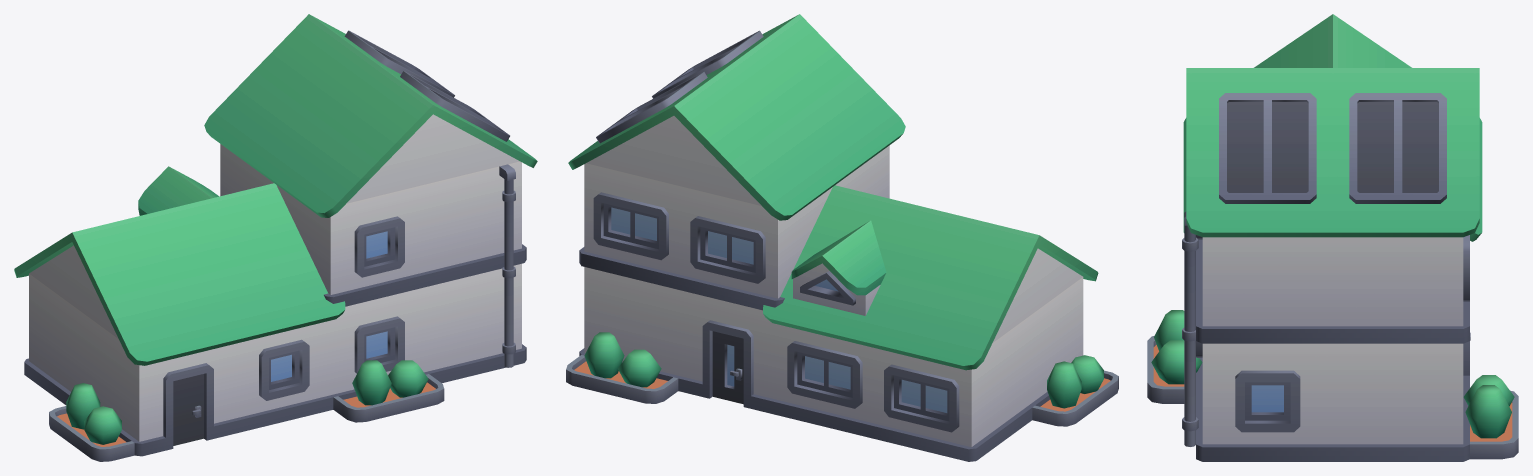
File: building-type-b.glb
The picture shows the model from 3 angles, left to right: view 1: azimuth 30°, elevation 25°; view 2: azimuth 150°, elevation 25°; view 3: azimuth 270°, elevation 25°; orthographic projection. The views are drawn at different scales.
Visible parts, largest first — view 1: building-type-b; view 2: building-type-b; view 3: building-type-b.
Part boxes in pixels (x1=…): building-type-b: x1=14, y1=14, x2=537, y2=461; building-type-b: x1=566, y1=14, x2=1118, y2=461; building-type-b: x1=1147, y1=14, x2=1518, y2=461.
Size of the model in its own units: 1.83 by 1.14 by 1.14.
Materials: 1 (1 with a texture image).
